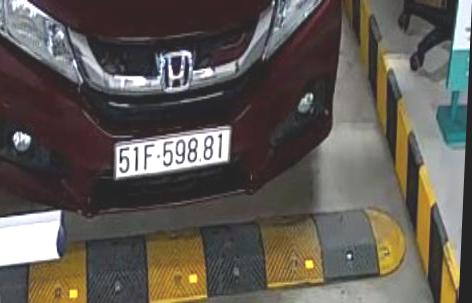License_Plate: (109, 131, 234, 174)
